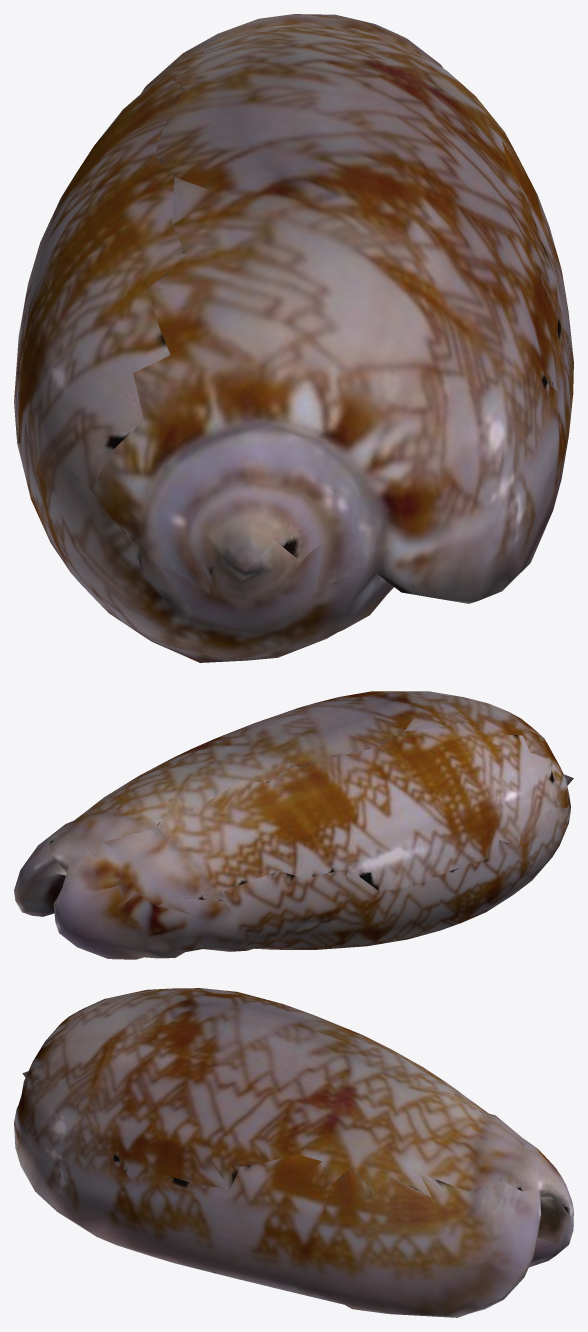
The model's file is coneShell.glb.
3 renders of one model, top to bottom at view 1: azimuth 30°, elevation 25°; view 2: azimuth 150°, elevation 25°; view 3: azimuth 270°, elevation 25°, orthographic. The views are drawn at different scales.
Visible parts, largest first — view 1: coneShell; view 2: coneShell; view 3: coneShell.
Part boxes in pixels (x1,y1,x2,y2): coneShell: (14,14,573,662); coneShell: (14,691,573,959); coneShell: (14,988,573,1317).
Bounding box in the file's own units: 0.0566 × 0.0324 × 0.07.
Materials: 1 (1 with a texture image).
